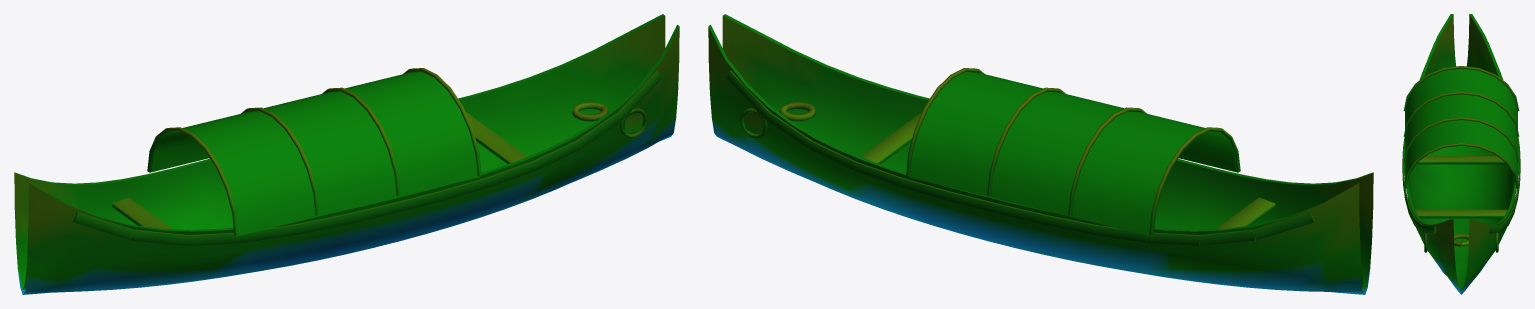
File: watch_boat.glb
The picture shows the model from 3 angles, left to right: view 1: azimuth 30°, elevation 25°; view 2: azimuth 150°, elevation 25°; view 3: azimuth 270°, elevation 25°; orthographic projection. The views are drawn at different scales.
Visible parts, largest first — view 1: watch_boat; view 2: watch_boat; view 3: watch_boat.
Part boxes in pixels (bbox=[...]): watch_boat: bbox=[14, 14, 679, 294]; watch_boat: bbox=[708, 14, 1373, 294]; watch_boat: bbox=[1402, 14, 1520, 294].
Size of what is drawn, in the model's own units: 8 by 1.73 by 1.95.
